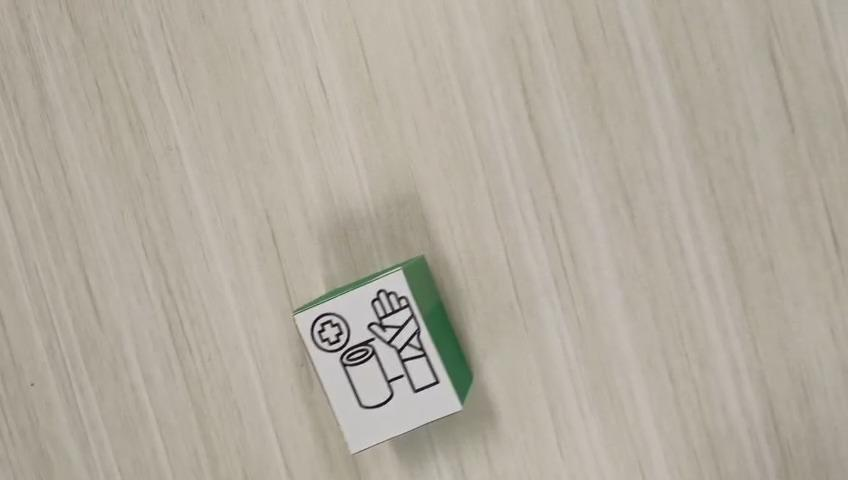Bandages: (290, 253, 473, 455)
